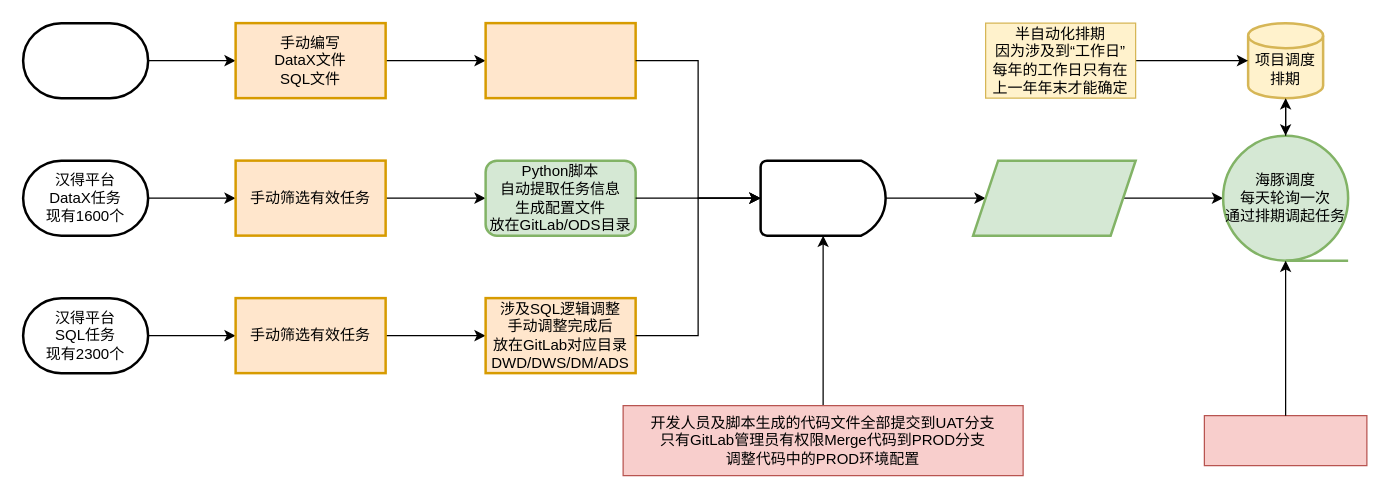
Some shapes in this 1389 by 498 pixel diagram are drawn without their labels. Here are the shapes that lost their labels. From the top down, the centre of each, then its label:
(x=85, y=60): 新任务
(x=560, y=60): 放在GitLab对应目录
(x=822, y=197): GitLab UAT/PROD分支
(x=1053, y=197): CI/CD 根据分支提交状态 推送脚本内容到 UAT/PROD环境
(x=1285, y=440): 管理员配置调度流程
